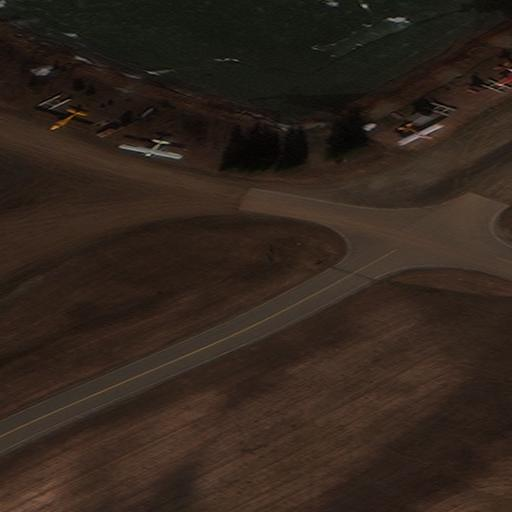Small Civil Transport: (33, 107, 87, 133), (118, 139, 180, 160), (398, 125, 444, 145), (498, 64, 512, 85)
